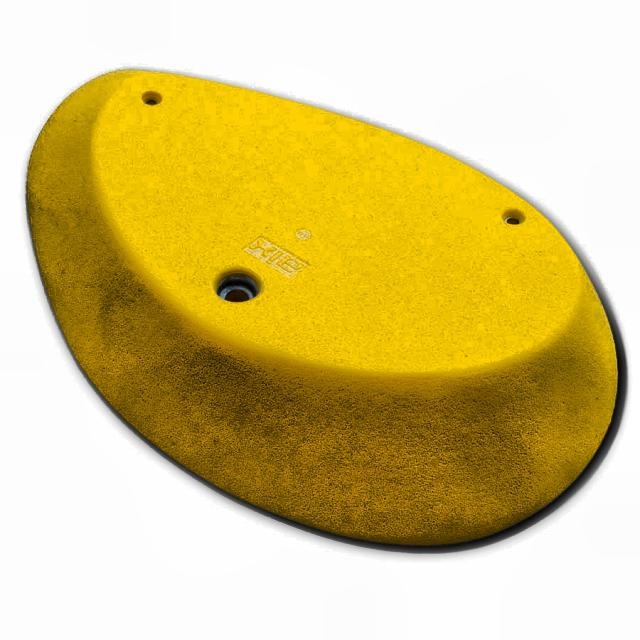Hold: (28, 66, 621, 552)
